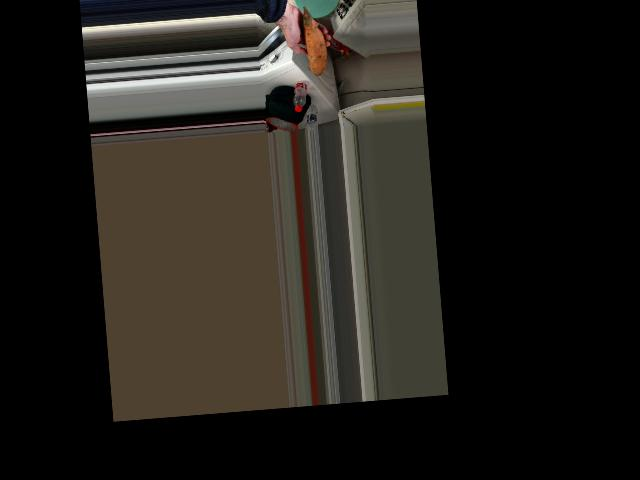sweet_potato: (302, 14, 330, 75)
